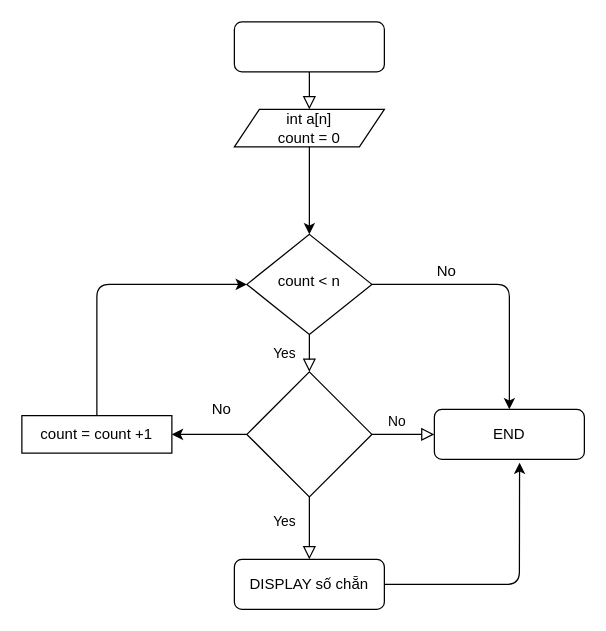
Some shapes in this 606 by 631 pixel diagram are drawn without their labels. Here are the shapes that lost their labels. From the top down, the box of each, then its label:
(233, 21, 384, 72): BEGIN
(246, 371, 372, 497): a[count] mod2 ==0
